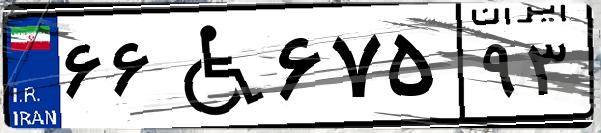3: (525, 38, 570, 115)
5: (385, 28, 445, 110)
6: (270, 28, 330, 110), (57, 26, 110, 100), (110, 28, 158, 98)
7: (330, 28, 385, 110)
9: (475, 38, 525, 113)
ژ (معلولین و جانبازان): (158, 12, 270, 120)
